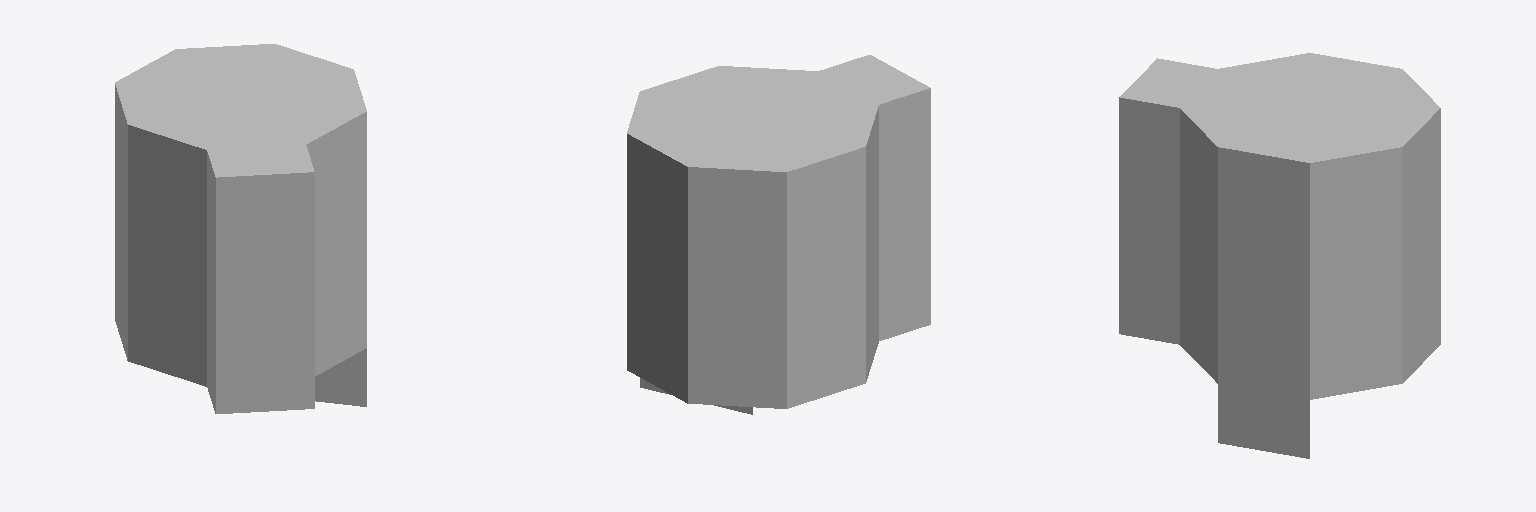
Rendered from simpleArtifact1.obj.
The picture shows the model from 3 angles: view 1: azimuth 30°, elevation 25°; view 2: azimuth 150°, elevation 25°; view 3: azimuth 270°, elevation 25°; orthographic projection.
Visible parts, largest first — view 1: Cube; view 2: Cube; view 3: Cube.
Part boxes in pixels (x1,y1,x2,y2): Cube: (115, 44, 366, 413); Cube: (627, 55, 930, 414); Cube: (1119, 53, 1440, 458).
Bounding box in the file's own units: 2 × 2.5 × 2.46.